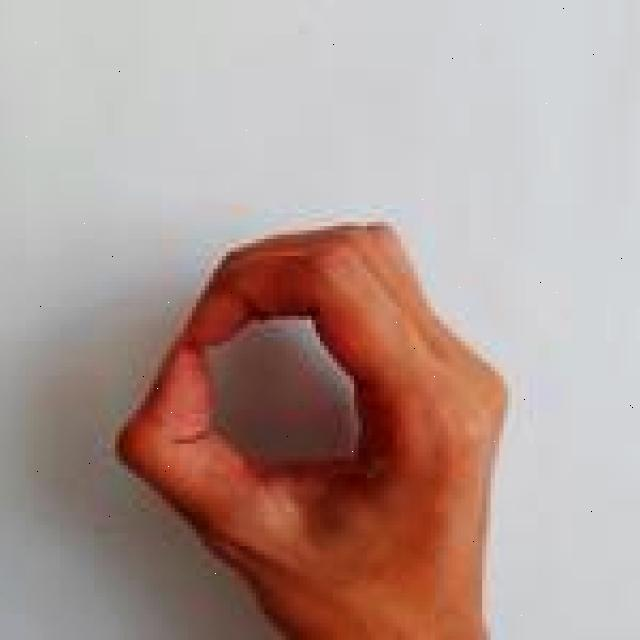O: (110, 209, 515, 640)
